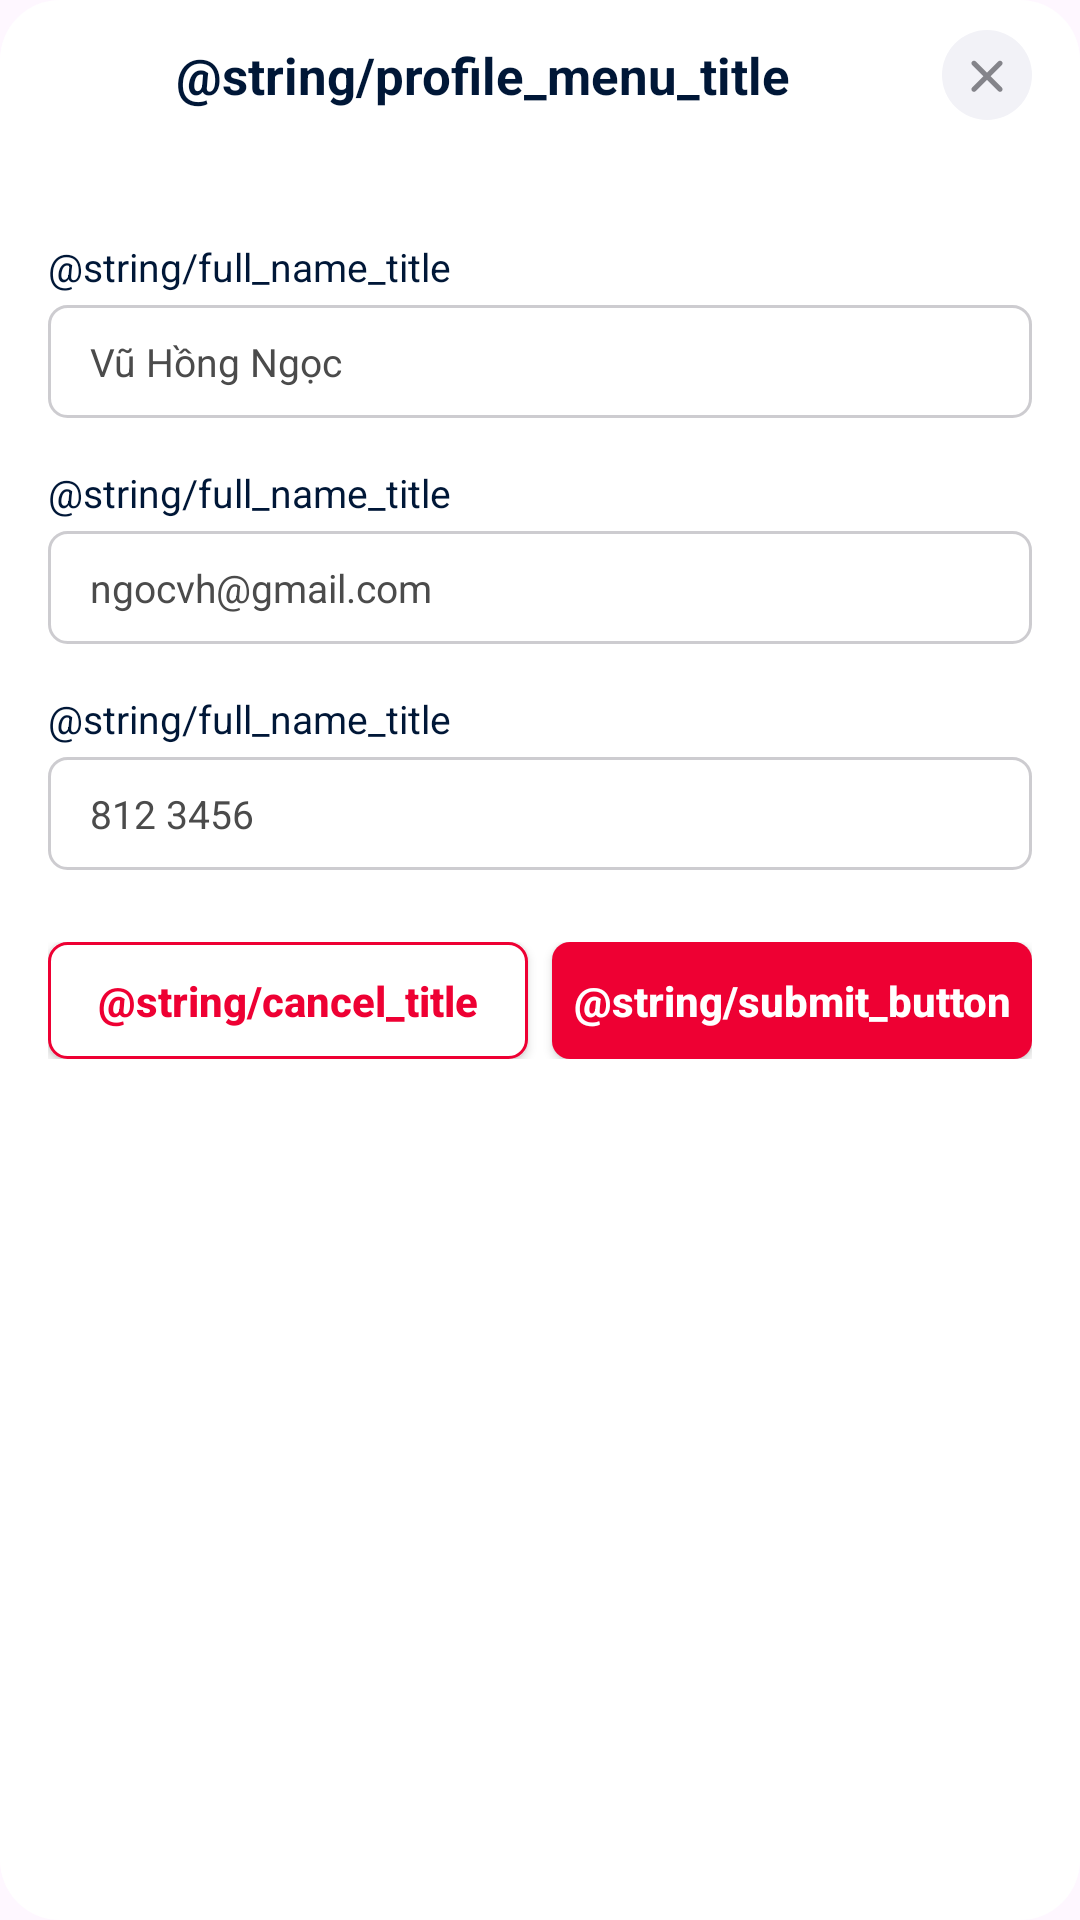

Point at icon controls on the screen. Image size 1080px x 1920px, points as (x=x, y=y).
close: (x=987, y=75)
